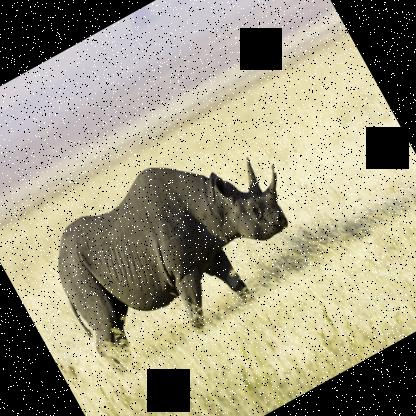Diceros bicornis: (27, 111, 330, 384)
